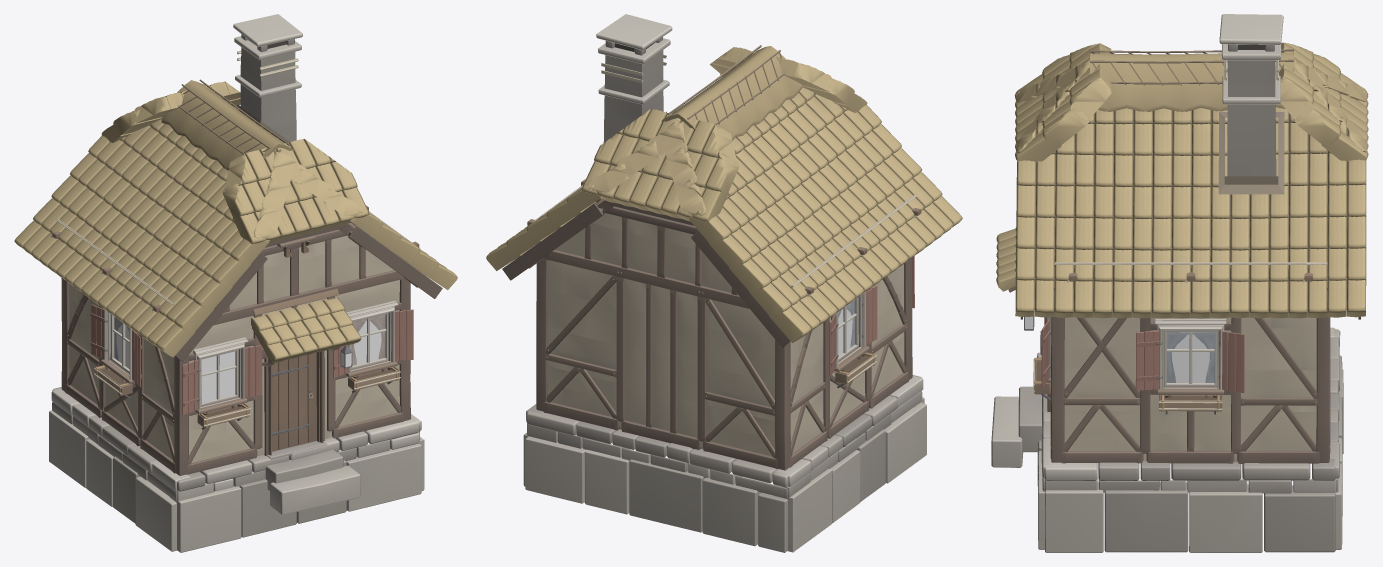
The model's file is bd_house_h9.glb.
3 views of the same model, side by side, from view 1: azimuth 30°, elevation 25°; view 2: azimuth 150°, elevation 25°; view 3: azimuth 270°, elevation 25° (orthographic). The views are drawn at different scales.
Visible parts, largest first — view 1: BD_house_h9__body; view 2: BD_house_h9__body; view 3: BD_house_h9__body.
Boxes of the visible parts, bbox=[...] form: BD_house_h9__body: bbox=[14, 14, 457, 552]; BD_house_h9__body: bbox=[486, 14, 962, 552]; BD_house_h9__body: bbox=[991, 14, 1368, 552].
Size of the model in its own units: 6.52 by 8.72 by 6.11.
